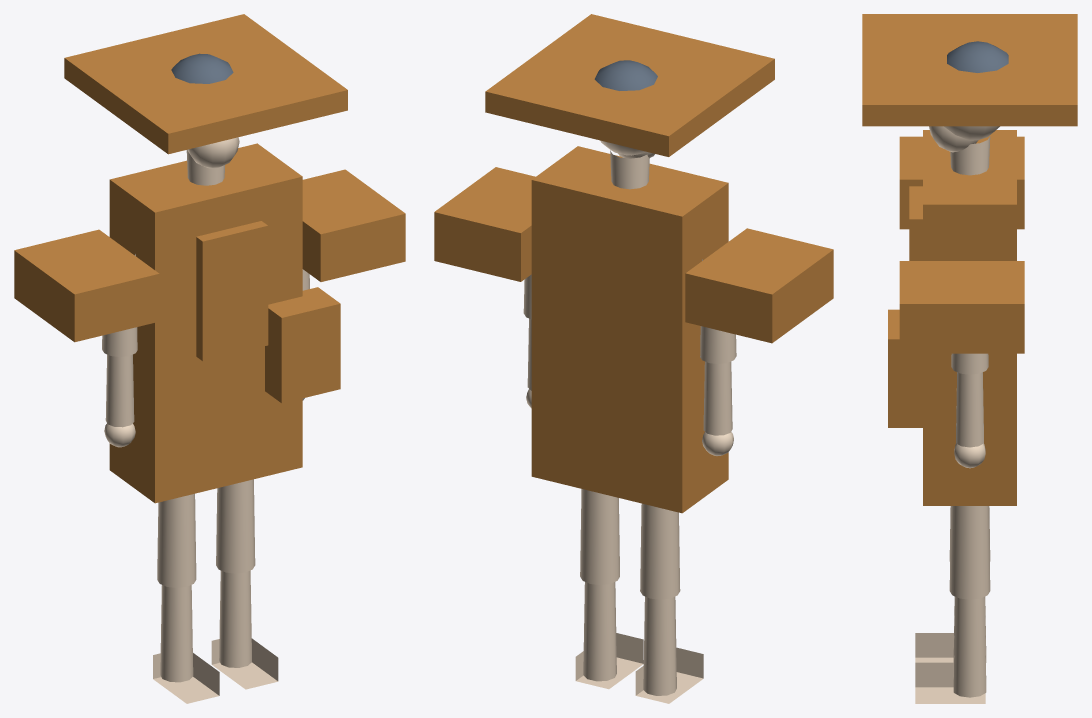
File: body.glb
The picture shows the model from 3 angles, left to right: view 1: azimuth 30°, elevation 25°; view 2: azimuth 150°, elevation 25°; view 3: azimuth 270°, elevation 25°; orthographic projection. The views are drawn at different scales.
Parts seen in each view (by area): view 1: Cloth, Skin, Hair; view 2: Cloth, Skin, Hair; view 3: Cloth, Skin, Hair.
Part boxes in pixels (left/top/right/bottom): Cloth: left=14, top=14, right=405, bottom=503; Skin: left=102, top=137, right=309, bottom=703; Hair: left=171, top=53, right=233, bottom=83; Cloth: left=434, top=14, right=833, bottom=513; Skin: left=523, top=140, right=736, bottom=703; Hair: left=594, top=60, right=657, bottom=90; Cloth: left=862, top=14, right=1077, bottom=505; Skin: left=915, top=126, right=999, bottom=703; Hair: left=947, top=41, right=1008, bottom=72.
Size of the model in its own units: 1.01 by 1.79 by 0.55.
